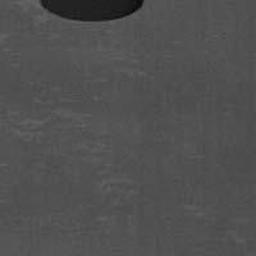Punching: (41, 0, 145, 23)
